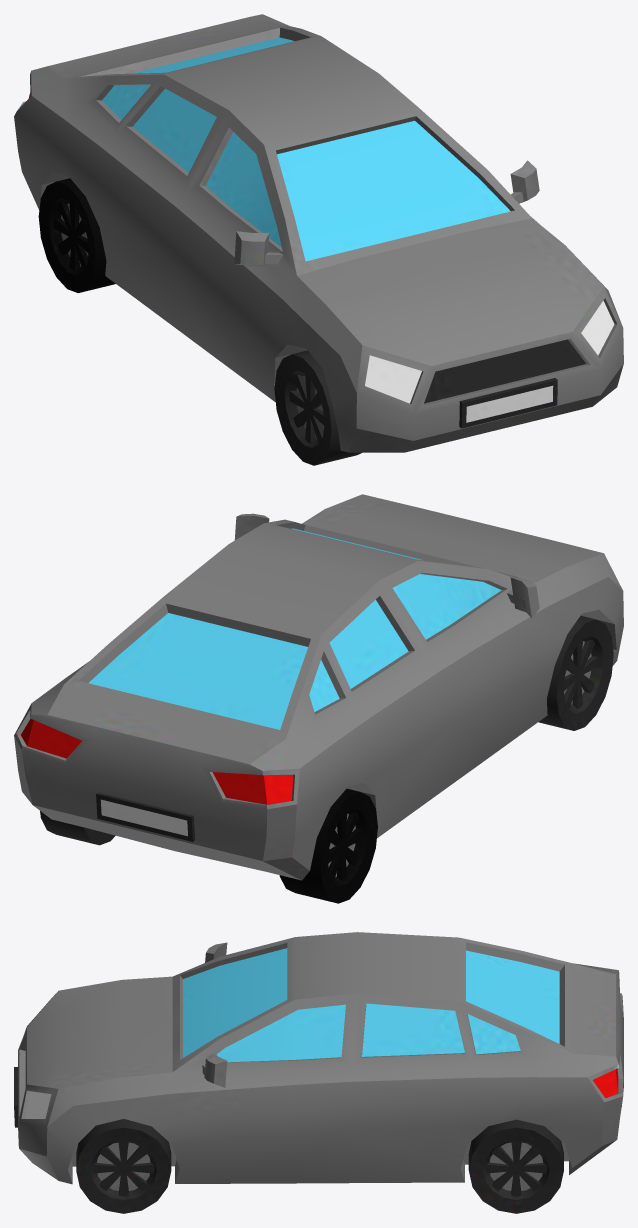
The model's file is car.glb.
3 renders of one model, top to bottom at view 1: azimuth 30°, elevation 25°; view 2: azimuth 150°, elevation 25°; view 3: azimuth 270°, elevation 25°, orthographic. The views are drawn at different scales.
Parts seen in each view (by area): view 1: Car_Sedan_0; view 2: Car_Sedan_0; view 3: Car_Sedan_0.
Part boxes in pixels (<box>): Car_Sedan_0: <box>14,14,623,465</box>; Car_Sedan_0: <box>14,494,623,903</box>; Car_Sedan_0: <box>14,932,623,1213</box>.
Bounding box in the file's own units: 1.78 × 1.32 × 3.77.
Materials: 1 (1 with a texture image).
